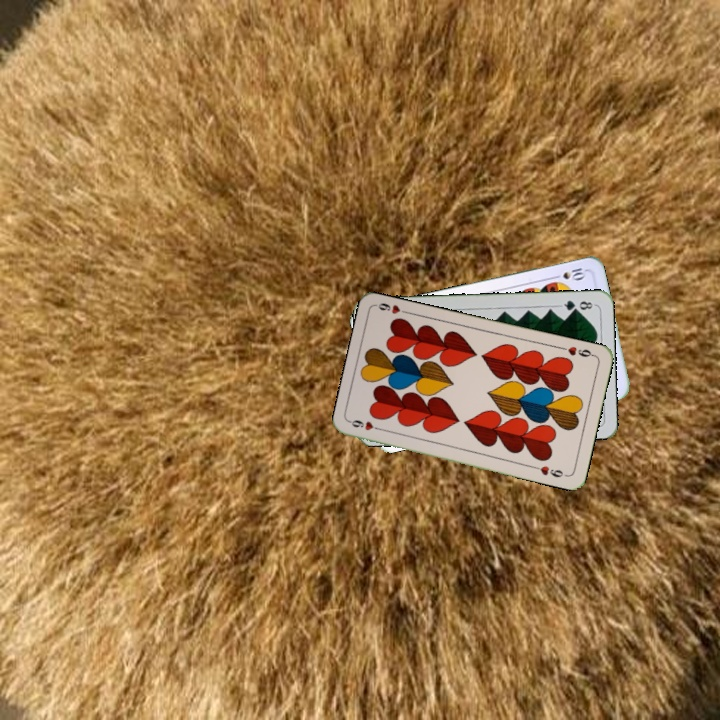G8: (557, 296, 597, 314)
H9: (557, 342, 597, 360), (347, 416, 387, 434)
S10: (548, 264, 588, 282)
